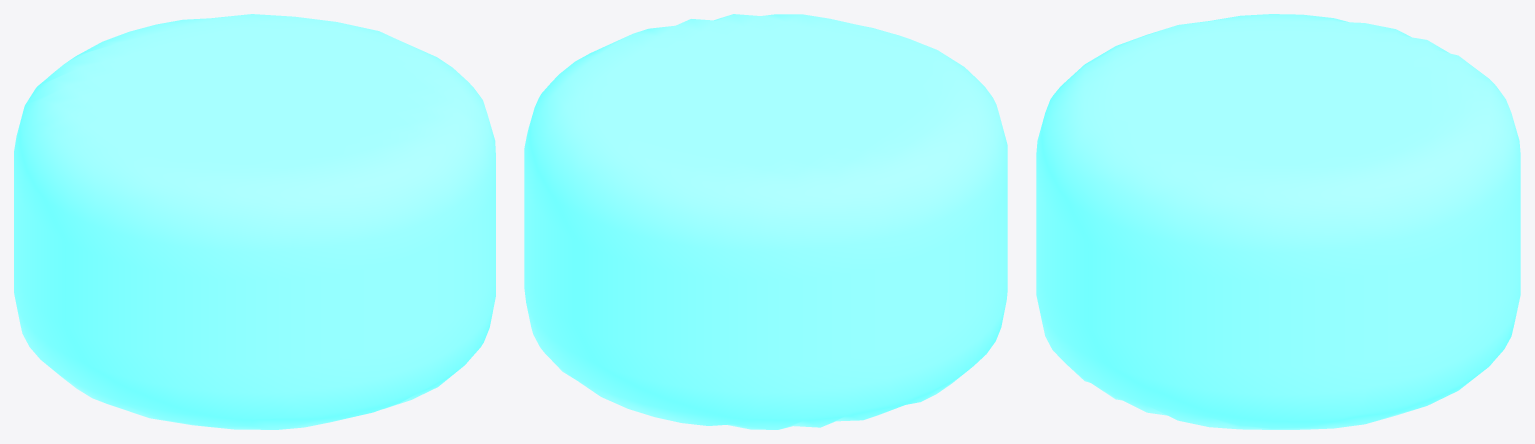
Rendered from 059_left_temple_status_led.glb.
3 views of the same model, side by side, from view 1: azimuth 30°, elevation 25°; view 2: azimuth 150°, elevation 25°; view 3: azimuth 270°, elevation 25° (orthographic).
Visible parts, largest first — view 1: 059 | Left Temple Status LED; view 2: 059 | Left Temple Status LED; view 3: 059 | Left Temple Status LED.
Part boxes in pixels (<box>): 059 | Left Temple Status LED: <box>14,14,495,429</box>; 059 | Left Temple Status LED: <box>524,14,1007,429</box>; 059 | Left Temple Status LED: <box>1036,14,1520,429</box>.
Bounding box in the file's own units: 0.0014 × 0.0008 × 0.0014.
